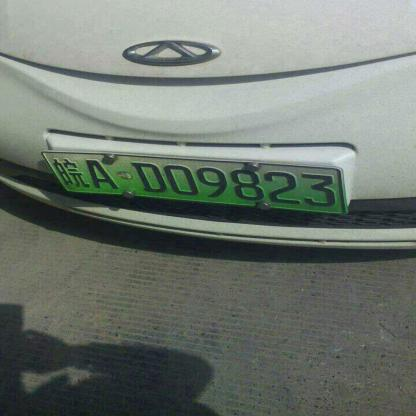lp: (42, 151, 71, 213)
